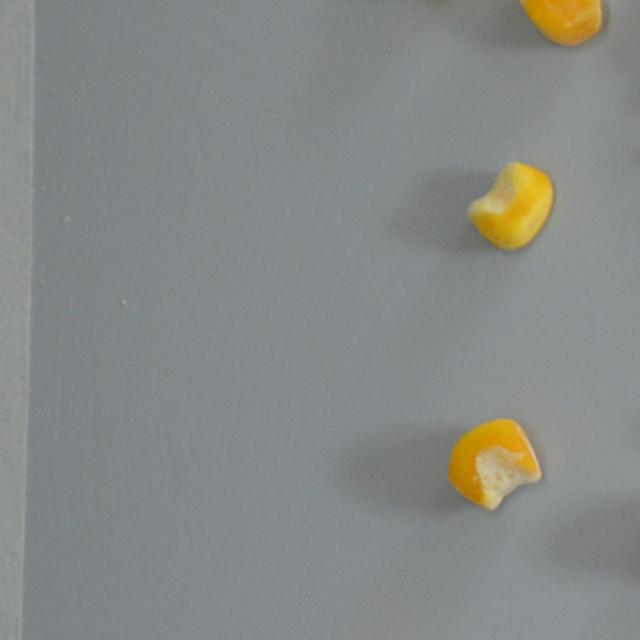no_canjicado: (466, 158, 554, 252)
no_desgerminado: (448, 416, 543, 512)
pelicula: (510, 0, 620, 49)
